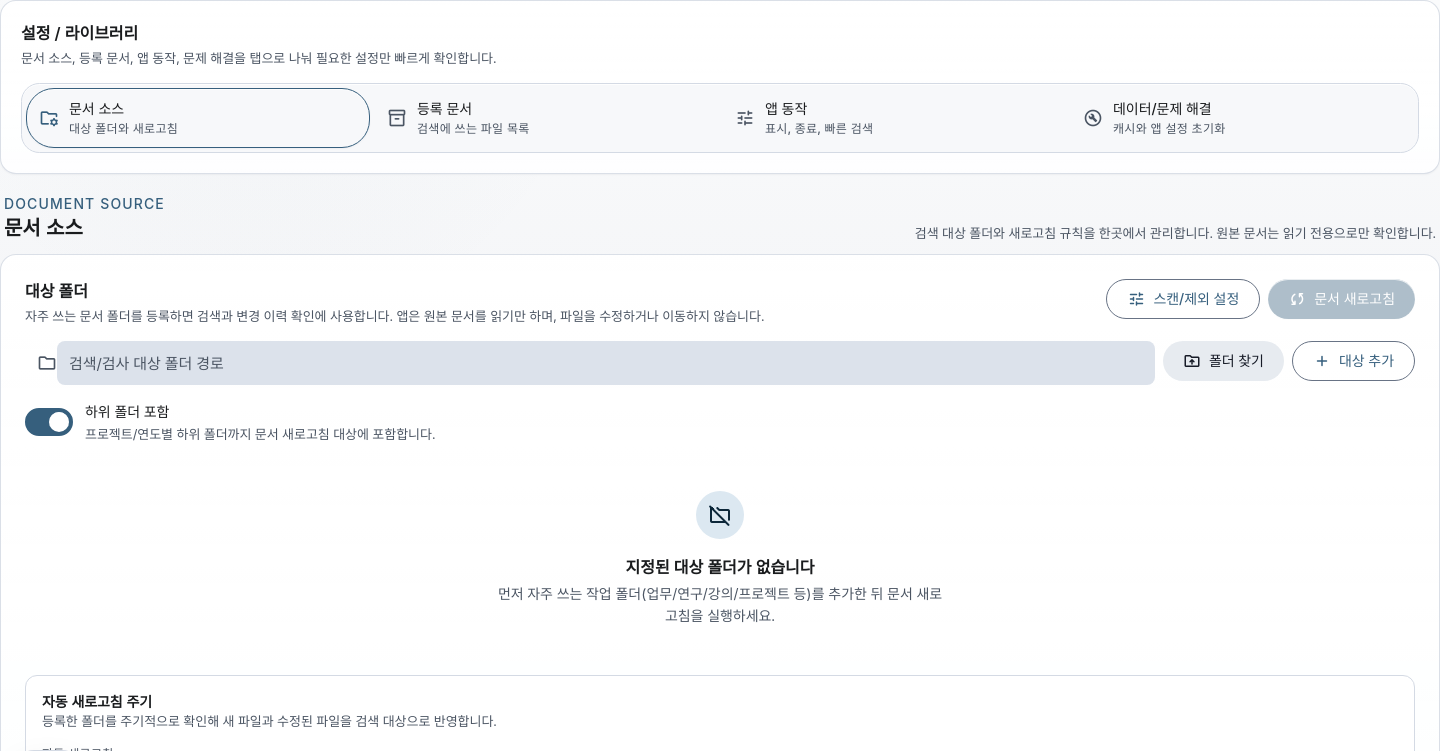
Test case: FileManager › pick folder › fills the folder draft when api.files.pickFolder returns a path
Click the button "폴더 찾기": (1223, 361) 1163,341 -> 1284,381
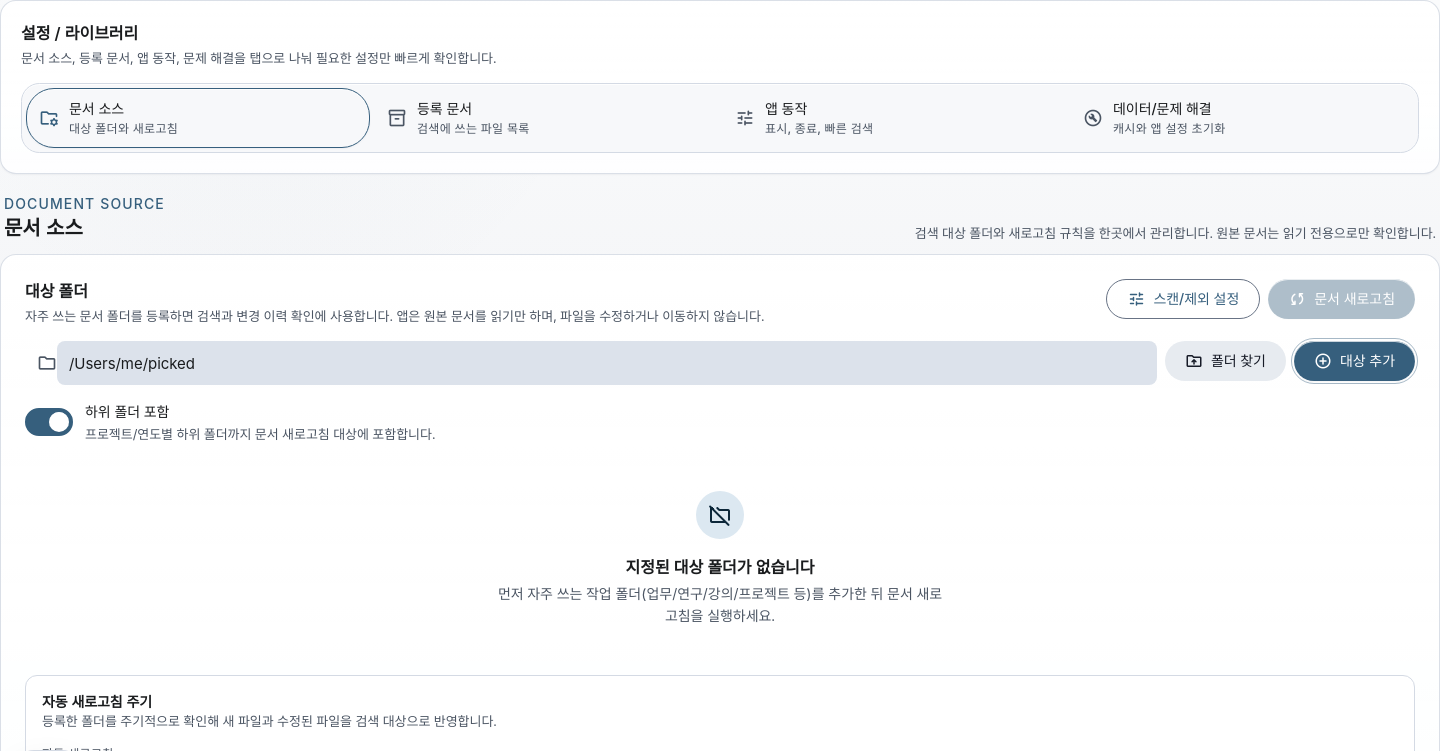
Expected: the field with placeholder "검색/검사 대상 폴더 경로" holds "/Users/me/picked", 57,341 -> 1157,385
